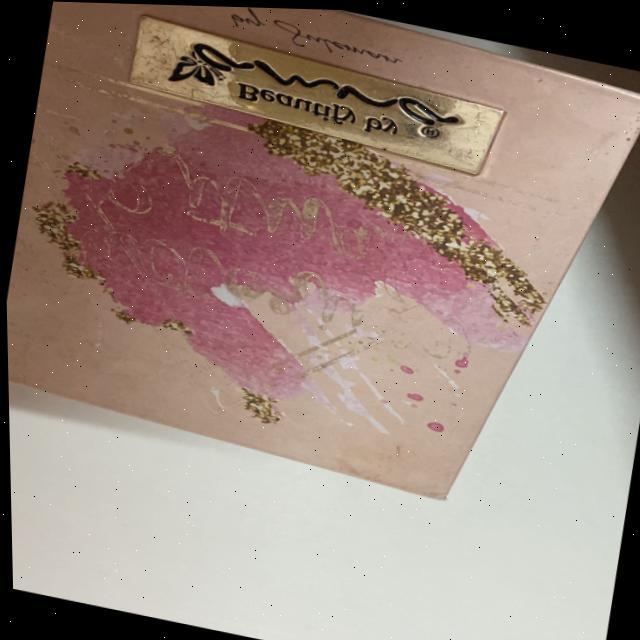makeup: (0, 0, 640, 543)
